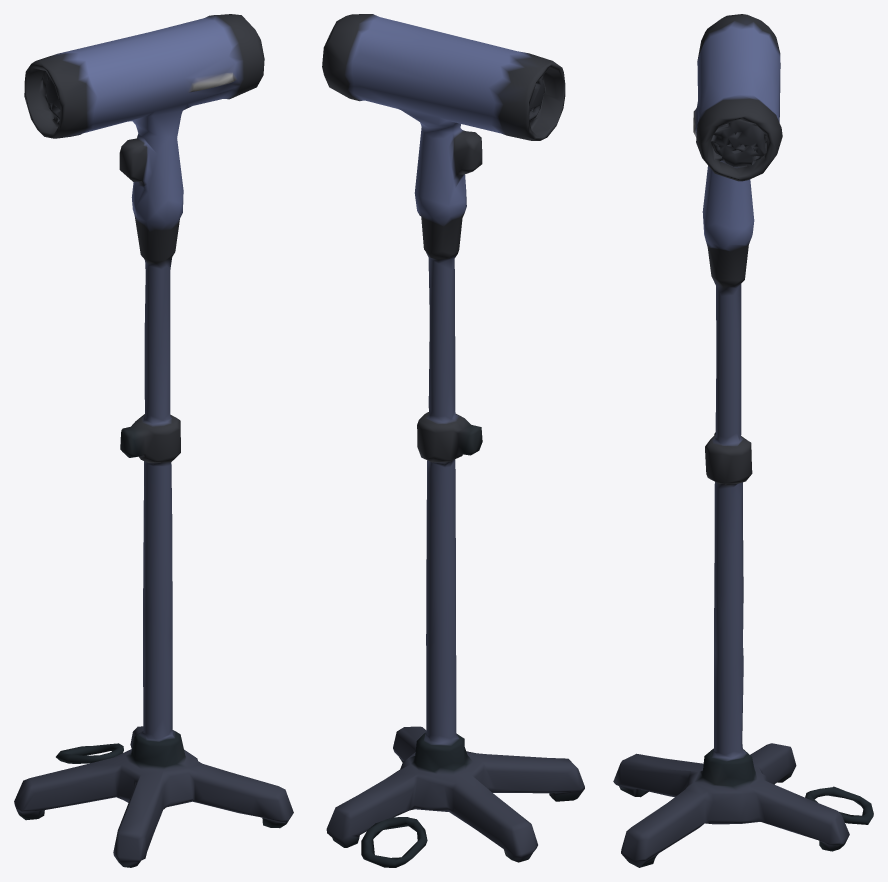
File: gen3d-grooming-dryer-lod0.glb
3 renders of one model, left to right at view 1: azimuth 30°, elevation 25°; view 2: azimuth 150°, elevation 25°; view 3: azimuth 270°, elevation 25°, orthographic. The views are drawn at different scales.
Visible parts, largest first — view 1: part_0; view 2: part_0; view 3: part_0.
Boxes of the visible parts, x1,y1,x2,y2 form: part_0: (14,14,293,867); part_0: (322,14,584,867); part_0: (613,14,873,867).
Bounding box in the file's own units: 0.2862 × 0.9982 × 0.3089.
